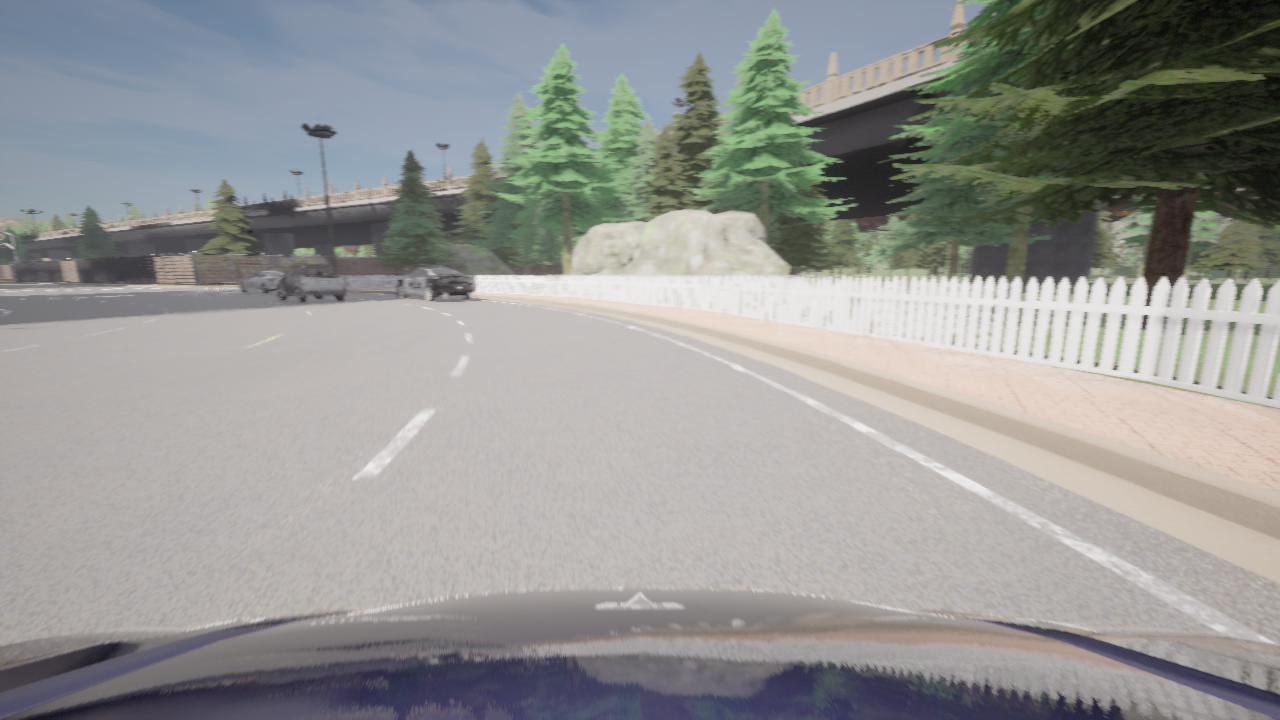cyclist: (0, 588, 1279, 719), (396, 264, 474, 301), (276, 265, 345, 302), (239, 270, 284, 293)
